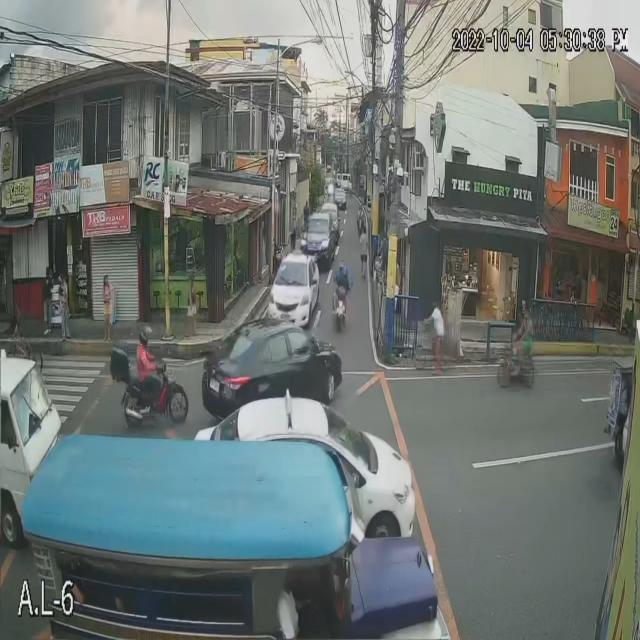full: (139, 323, 152, 346)
